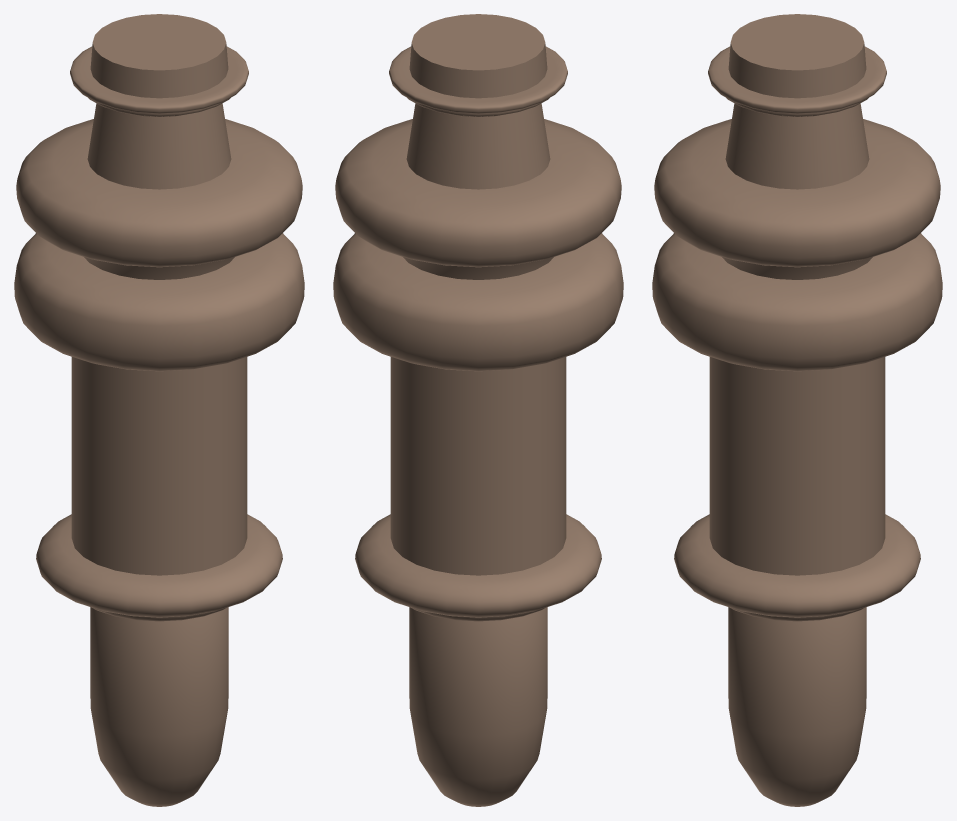
File: SM_Sofa_Leg.fbx
3 views of the same model, side by side, from view 1: azimuth 30°, elevation 25°; view 2: azimuth 150°, elevation 25°; view 3: azimuth 270°, elevation 25° (orthographic).
Parts seen in each view (by area): view 1: SM_Sofa_Leg; view 2: SM_Sofa_Leg; view 3: SM_Sofa_Leg.
Boxes of the visible parts, x1,y1,x2,y2 form: SM_Sofa_Leg: (14,14,304,806); SM_Sofa_Leg: (333,14,623,806); SM_Sofa_Leg: (652,14,942,806).
Size of the model in its own units: 15.63 by 45.06 by 15.63.
